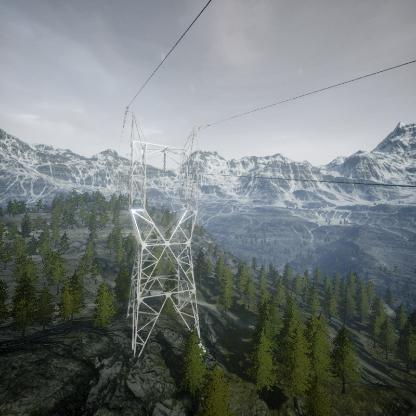tower: (119, 106, 209, 362)
